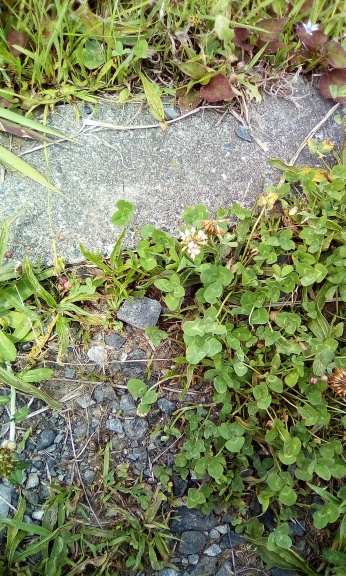4leaf: (153, 272, 186, 311)
